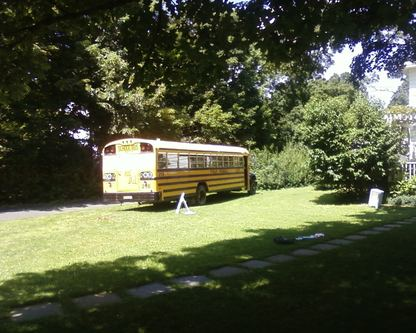bus: (100, 136, 258, 209)
